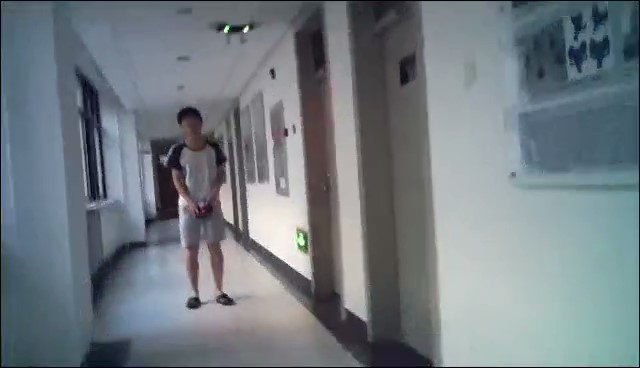drone: (208, 16, 264, 43)
person: (164, 105, 238, 309)
